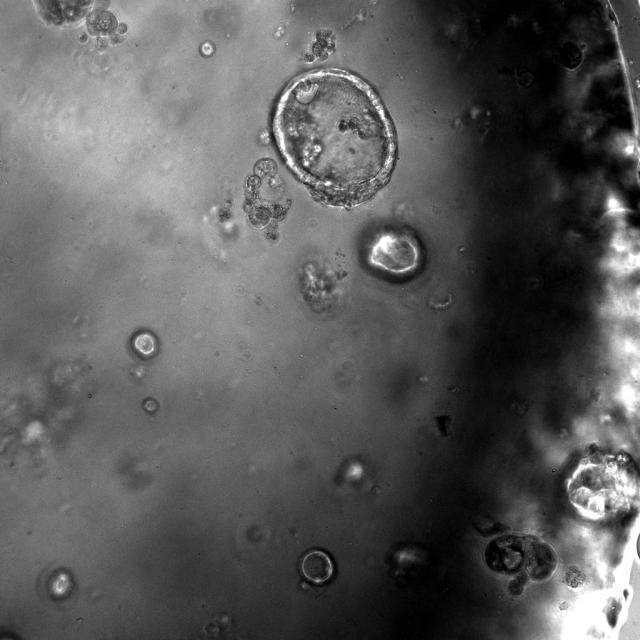organoid: (272, 70, 398, 209), (566, 446, 639, 522), (32, 0, 128, 51), (483, 534, 558, 596), (242, 157, 291, 240), (360, 223, 426, 282), (299, 261, 340, 313), (299, 549, 335, 585), (304, 29, 336, 63), (129, 329, 158, 359), (559, 41, 583, 70), (563, 565, 585, 589), (476, 522, 509, 537), (141, 396, 159, 414), (218, 199, 232, 222)
